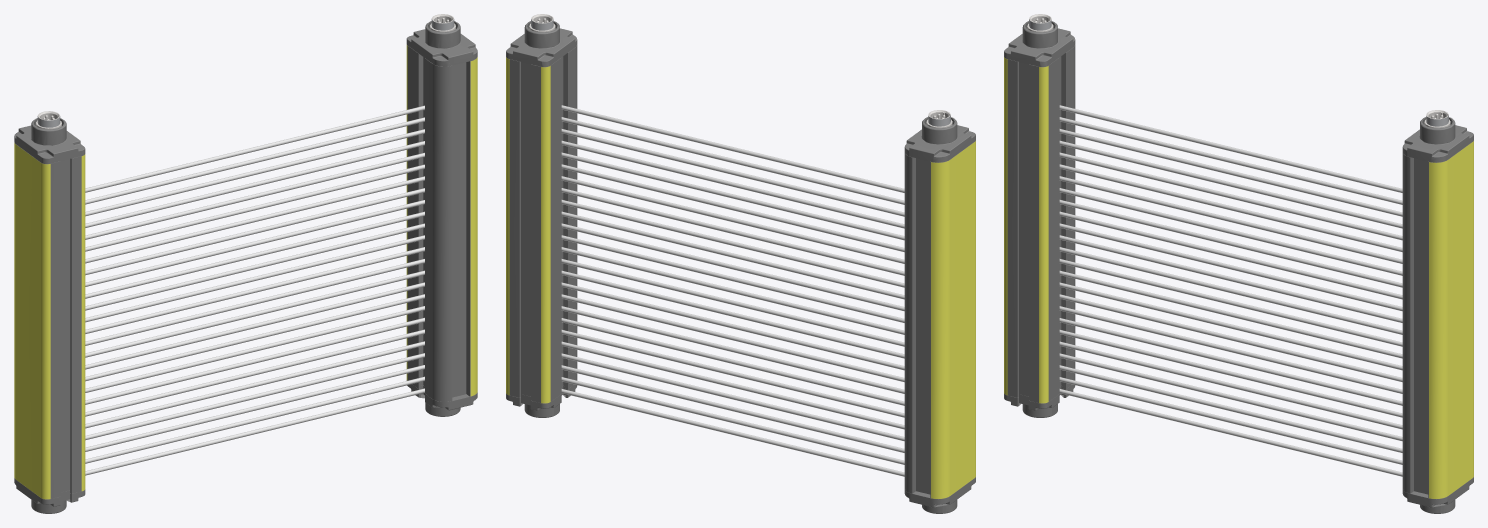
Rendered from Light curtain(without stands).fbx.
3 renders of one model, left to right at view 1: azimuth 30°, elevation 25°; view 2: azimuth 150°, elevation 25°; view 3: azimuth 330°, elevation 25°, orthographic.
Parts seen in each view (by area): view 1: Light visuals, Sensor 1, Sensor 1.001; view 2: Light visuals, Sensor 1, Sensor 1.001; view 3: Light visuals, Sensor 1.001, Sensor 1.
Part boxes in pixels (x1,y1,x2,y2): Light visuals: (85, 105, 424, 475); Sensor 1: (14, 111, 85, 513); Sensor 1.001: (406, 14, 477, 416); Light visuals: (561, 105, 904, 476); Sensor 1: (904, 110, 975, 513); Sensor 1.001: (506, 14, 577, 417); Light visuals: (1059, 105, 1402, 476); Sensor 1.001: (1402, 110, 1473, 513); Sensor 1: (1004, 14, 1075, 417).
Size of the model in its own units: 35.85 by 30.56 by 5.
